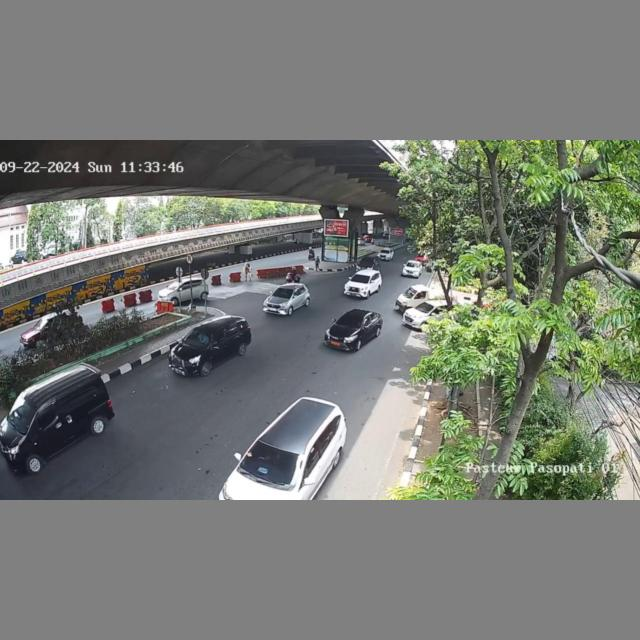windshield: (239, 440, 307, 489), (181, 327, 215, 348), (335, 314, 363, 330), (349, 273, 371, 284), (272, 288, 293, 299), (414, 301, 433, 313)
